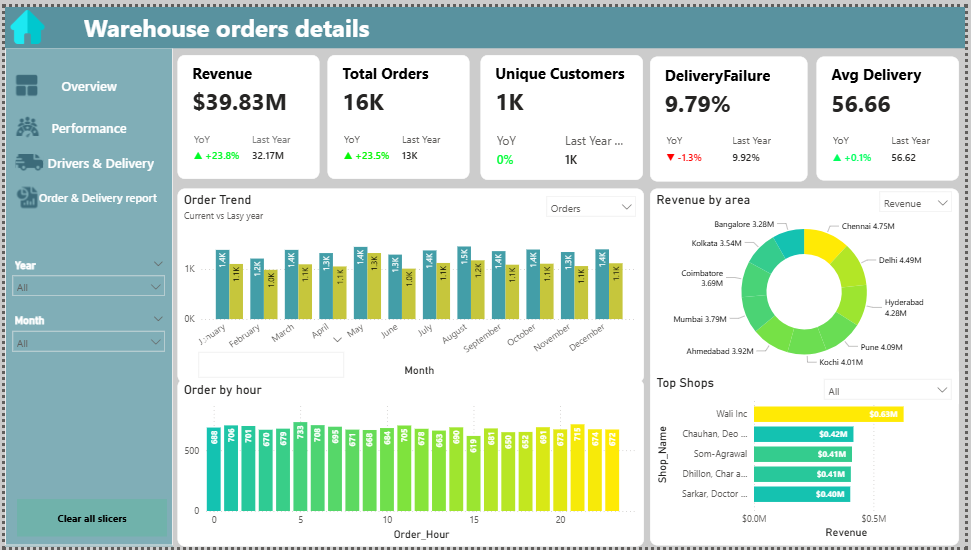

Layout of this report page (visuals, bound fields, positions):
{"tool":"powerbi","page":{"name":"Overview","canvas":[1280,720],"ordinal":1},"visuals":[{"type":"cardVisual","fields":{"Data":["Customers.Revanue"]},"box":[229.9,64.8,189.4,165.2],"z":0},{"type":"cardVisual","fields":{"Data":["Customers.Total Orders"]},"box":[430.7,64.8,189.4,165.2],"z":1000},{"type":"cardVisual","fields":{"Data":["Customers.Avg delivery time"]},"box":[1081.7,65,190,165],"z":2000},{"type":"cardVisual","fields":{"Data":["Customers.Delivery Failure Rate %"]},"box":[860,65,210,166.7],"z":3000},{"type":"clusteredColumnChart","fields":{"Category":["DateTable.Date.Variation.Date Hierarchy.Month"],"Y":["Metric Table.Selected Metric","Metric Table.Selected Metric LY"]},"box":[229.9,241.3,621.8,259.1],"z":4000},{"type":"slicer","fields":{"Values":["Metric Table.Metric"]},"box":[712.5,241.3,139.3,42.1],"z":5000},{"type":"columnChart","fields":{"Category":["Orders.Order_Hour"],"Y":["Metric Table.Selected Metric"]},"box":[230,496.7,621.7,223.3],"z":6000},{"type":"donutChart","fields":{"Category":["Customers.City"],"Y":["Area Metric Table.Area Selected Metric"]},"box":[860,241.7,411.7,256.7],"z":7000},{"type":"slicer","fields":{"Values":["Area Metric Table.Metric"]},"box":[1155,235,116.7,48.3],"z":8000},{"type":"barChart","fields":{"Category":["Customers.Customer_Name","Orders.Shop_Name"],"Y":["Customers.Revenue"]},"box":[860,486.7,411.7,231.7],"z":8500},{"type":"slicer","fields":{"Values":["Top Analysis Parameter.Top Analysis Parameter"]},"box":[1081.7,486.7,190,43.3],"z":9000},{"type":"shape","box":[0,53.4,223.5,665.5],"z":11000},{"type":"slicer","fields":{"Values":["DateTable.Date.Variation.Date Hierarchy.Year"]},"box":[247.1,431.4,214.3,81.4],"z":12000},{"type":"actionButton","box":[15,655,200,50],"z":13000},{"type":"shape","box":[0,0,1280,55],"z":14000},{"type":"cardVisual","fields":{"Data":["Customers.Unique Customers"]},"box":[634.7,64.8,217,166.8],"z":15000},{"type":"image","box":[4.5,4.5,52.3,45.5],"z":16000},{"type":"actionButton","box":[10,140,204.3,40],"z":17000},{"type":"actionButton","box":[10,191.4,204.3,40],"z":18000},{"type":"actionButton","box":[10.6,234.6,203.8,40.4],"z":19000},{"type":"slicer","fields":{"Values":["DateTable.Date.Variation.Date Hierarchy.Year"]},"box":[0,330,223.3,56.7],"z":20000},{"type":"slicer","fields":{"Values":["DateTable.Date.Variation.Date Hierarchy.Month"]},"box":[0,403.3,223.3,56.7],"z":21000},{"type":"actionButton","box":[10,84.3,204.3,40],"z":22000},{"type":"textbox","box":[100.4,0,424.2,64.8],"z":23000}]}

Visuals, with their boxes in screenshot pixels (x1, y1, x2, y2), scaled from the page's 1280x720 canvas onto the 971x550 screenshot:
cardVisual - Customers.Revanue: Rect(174, 49, 318, 176)
cardVisual - Customers.Total Orders: Rect(327, 49, 470, 176)
cardVisual - Customers.Avg delivery time: Rect(821, 50, 965, 176)
cardVisual - Customers.Delivery Failure Rate %: Rect(652, 50, 812, 177)
clusteredColumnChart - DateTable.Date.Variation.Date Hierarchy.Month x Metric Table.Selected Metric: Rect(174, 184, 646, 382)
slicer - Metric Table.Metric: Rect(540, 184, 646, 216)
columnChart - Orders.Order_Hour x Metric Table.Selected Metric: Rect(174, 379, 646, 549)
donutChart - Customers.City x Area Metric Table.Area Selected Metric: Rect(652, 185, 965, 381)
slicer - Area Metric Table.Metric: Rect(876, 180, 965, 216)
barChart - Customers.Customer_Name x Orders.Shop_Name: Rect(652, 372, 965, 549)
slicer - Top Analysis Parameter.Top Analysis Parameter: Rect(821, 372, 965, 405)
shape: Rect(0, 41, 170, 549)
slicer - DateTable.Date.Variation.Date Hierarchy.Year: Rect(187, 330, 350, 392)
actionButton: Rect(11, 500, 163, 539)
shape: Rect(0, 0, 970, 42)
cardVisual - Customers.Unique Customers: Rect(481, 49, 646, 177)
image: Rect(3, 3, 43, 38)
actionButton: Rect(8, 107, 163, 138)
actionButton: Rect(8, 146, 163, 177)
actionButton: Rect(8, 179, 163, 210)
slicer - DateTable.Date.Variation.Date Hierarchy.Year: Rect(0, 252, 169, 295)
slicer - DateTable.Date.Variation.Date Hierarchy.Month: Rect(0, 308, 169, 351)
actionButton: Rect(8, 64, 163, 95)
textbox: Rect(76, 0, 398, 49)
